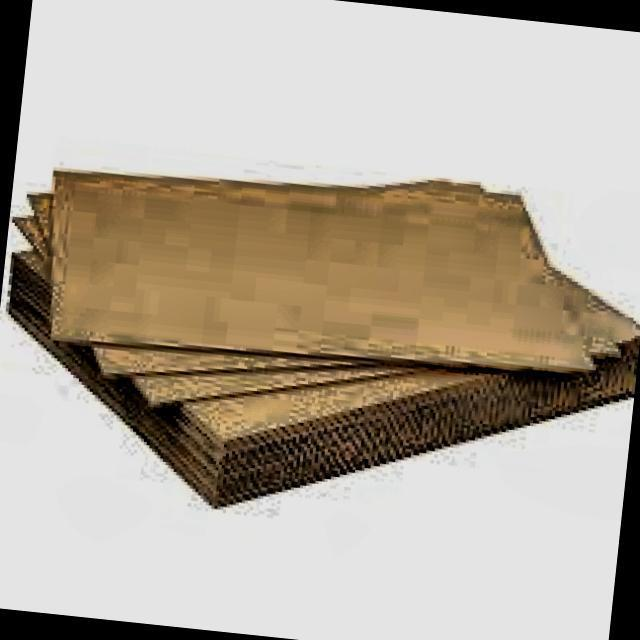cardboard: (0, 130, 640, 550)
